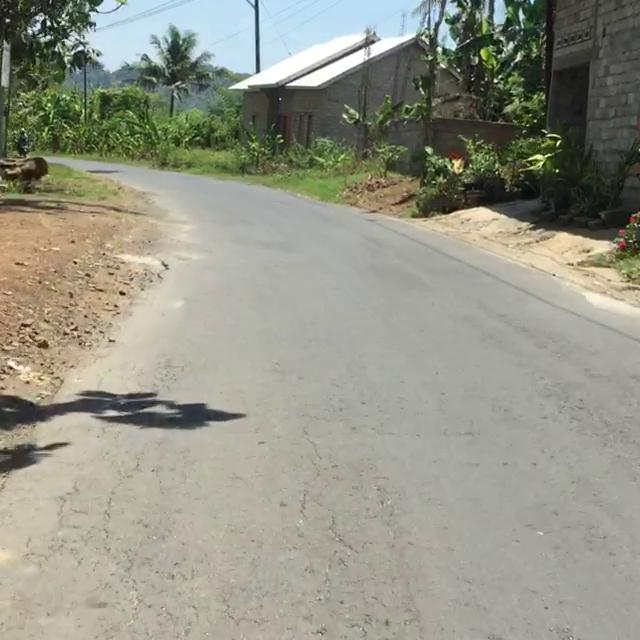retak_kulit_buaya: (47, 458, 190, 640)
